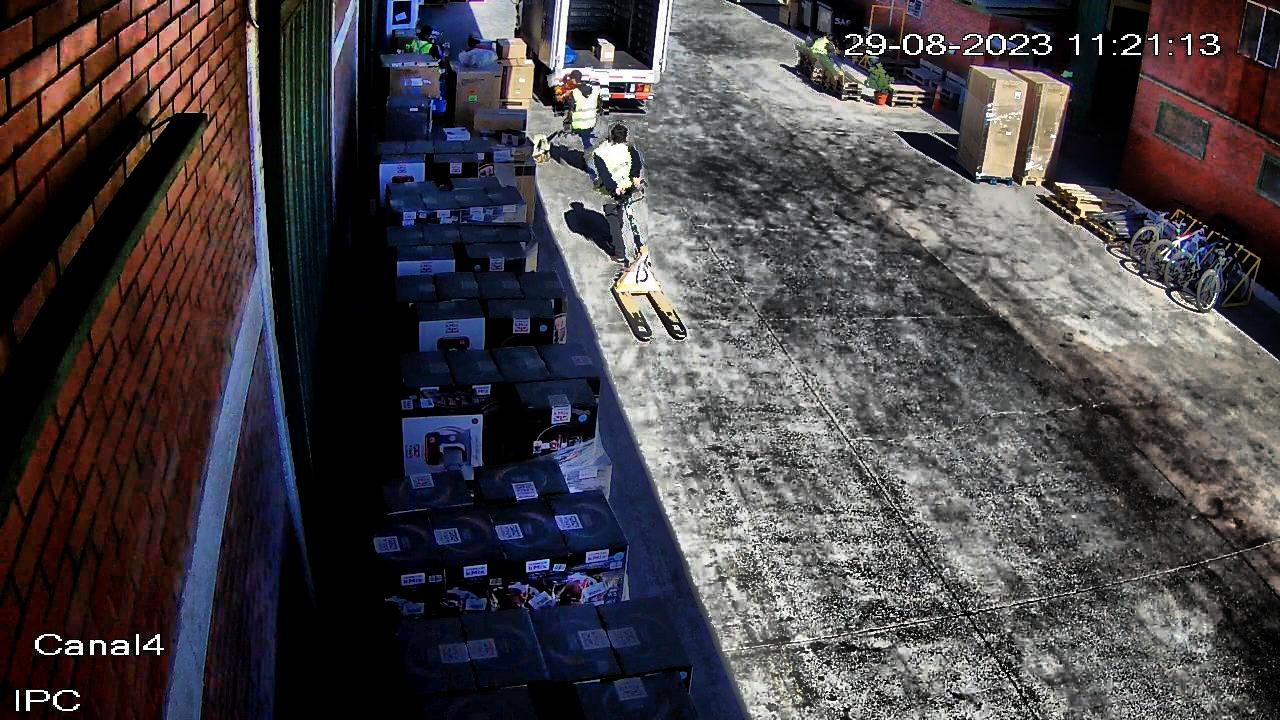con-chaleco: (584, 139, 645, 207), (562, 81, 600, 134), (406, 37, 435, 75), (807, 35, 835, 59)
persona: (581, 121, 649, 275), (552, 68, 610, 192), (399, 22, 445, 100), (798, 29, 845, 90)
sin-casco: (608, 121, 635, 146), (415, 20, 443, 43), (568, 69, 592, 88), (824, 33, 838, 45)
